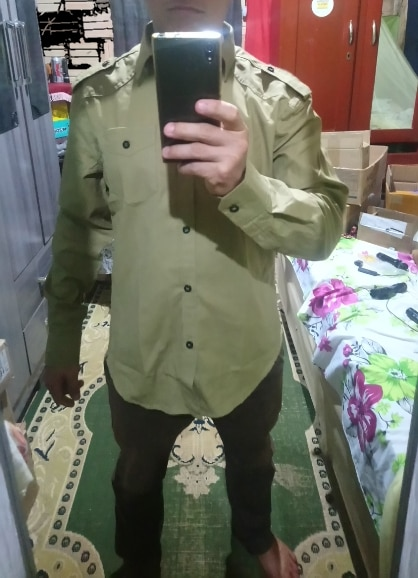shirts: (45, 22, 339, 423)
